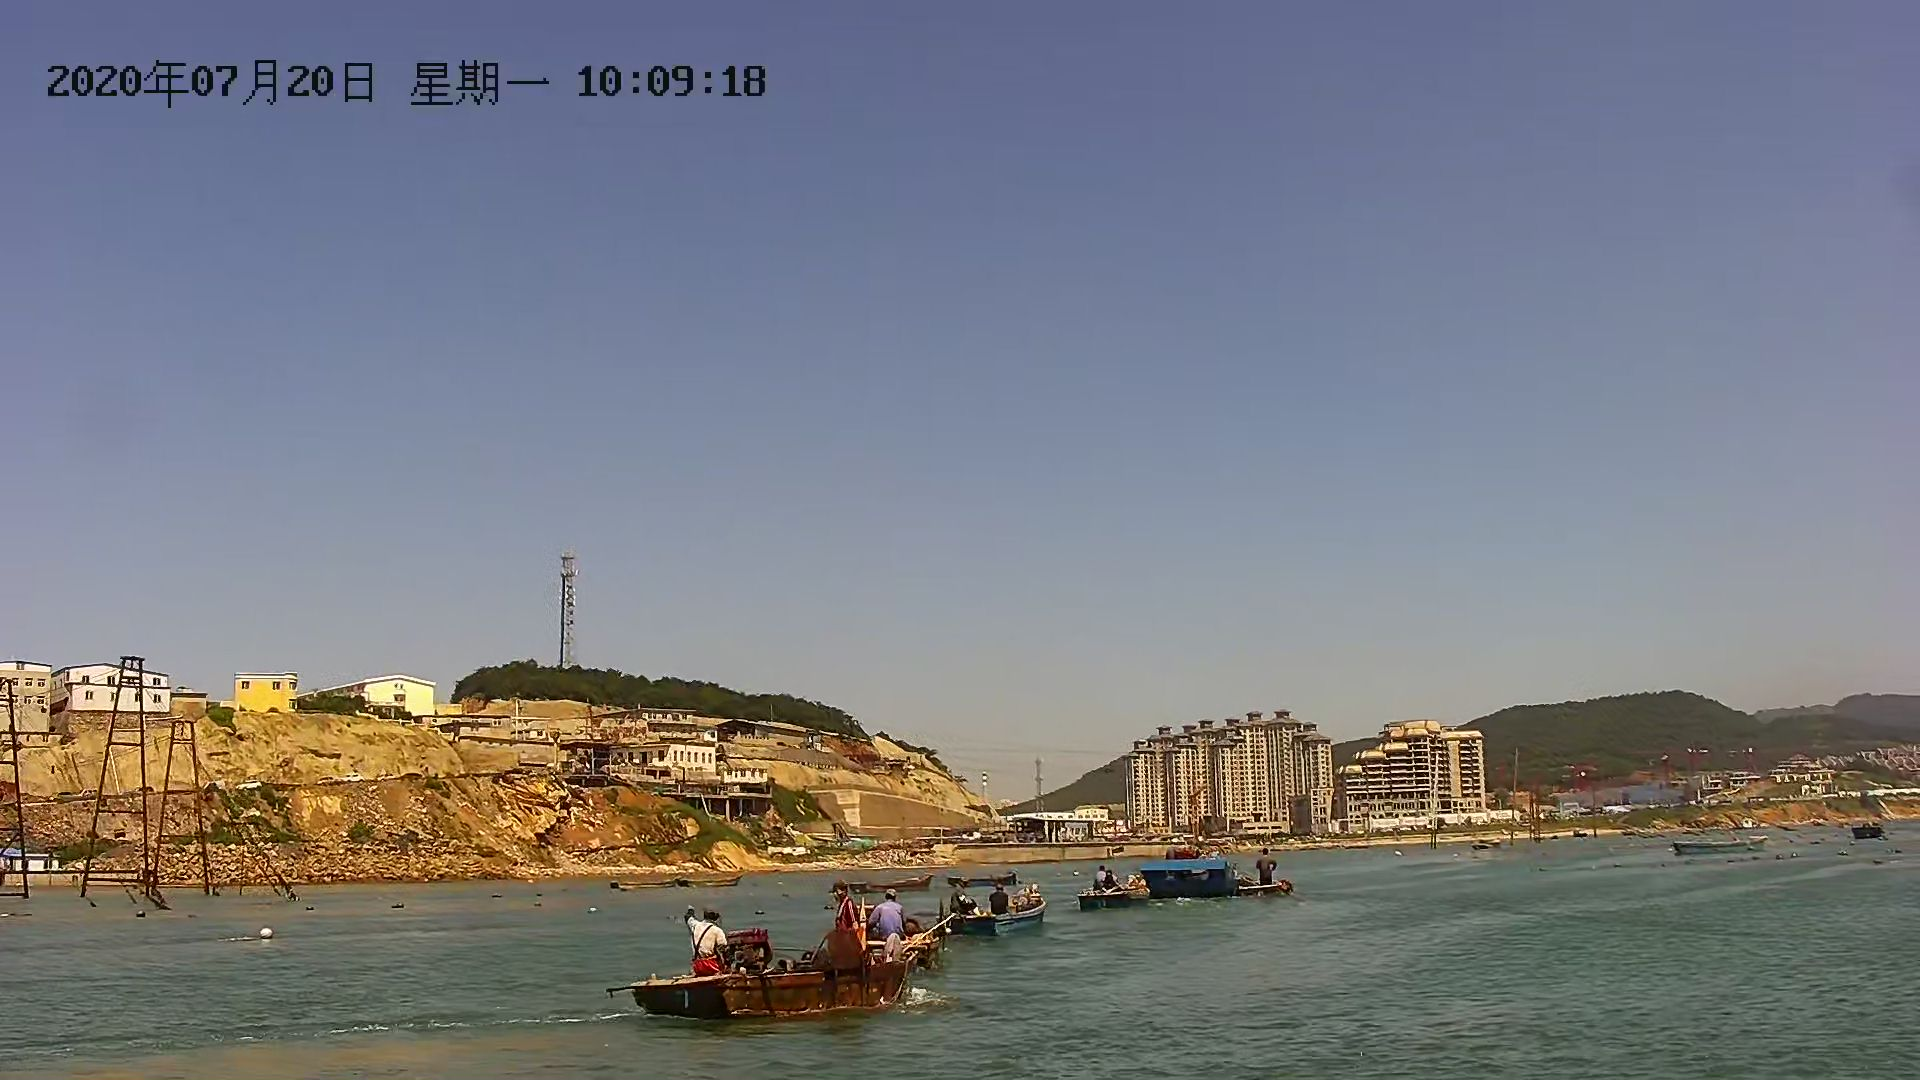boat: (639, 955, 907, 1022), (945, 896, 1048, 941), (1079, 882, 1157, 911), (1671, 835, 1773, 854), (1231, 877, 1299, 899)
mast: (80, 651, 147, 910), (144, 719, 215, 902), (1, 676, 38, 903)
person: (683, 903, 738, 991), (824, 882, 862, 969), (859, 889, 911, 949), (1088, 858, 1125, 893), (987, 877, 1010, 918), (1257, 847, 1283, 882)
platform: (1139, 852, 1243, 899)
